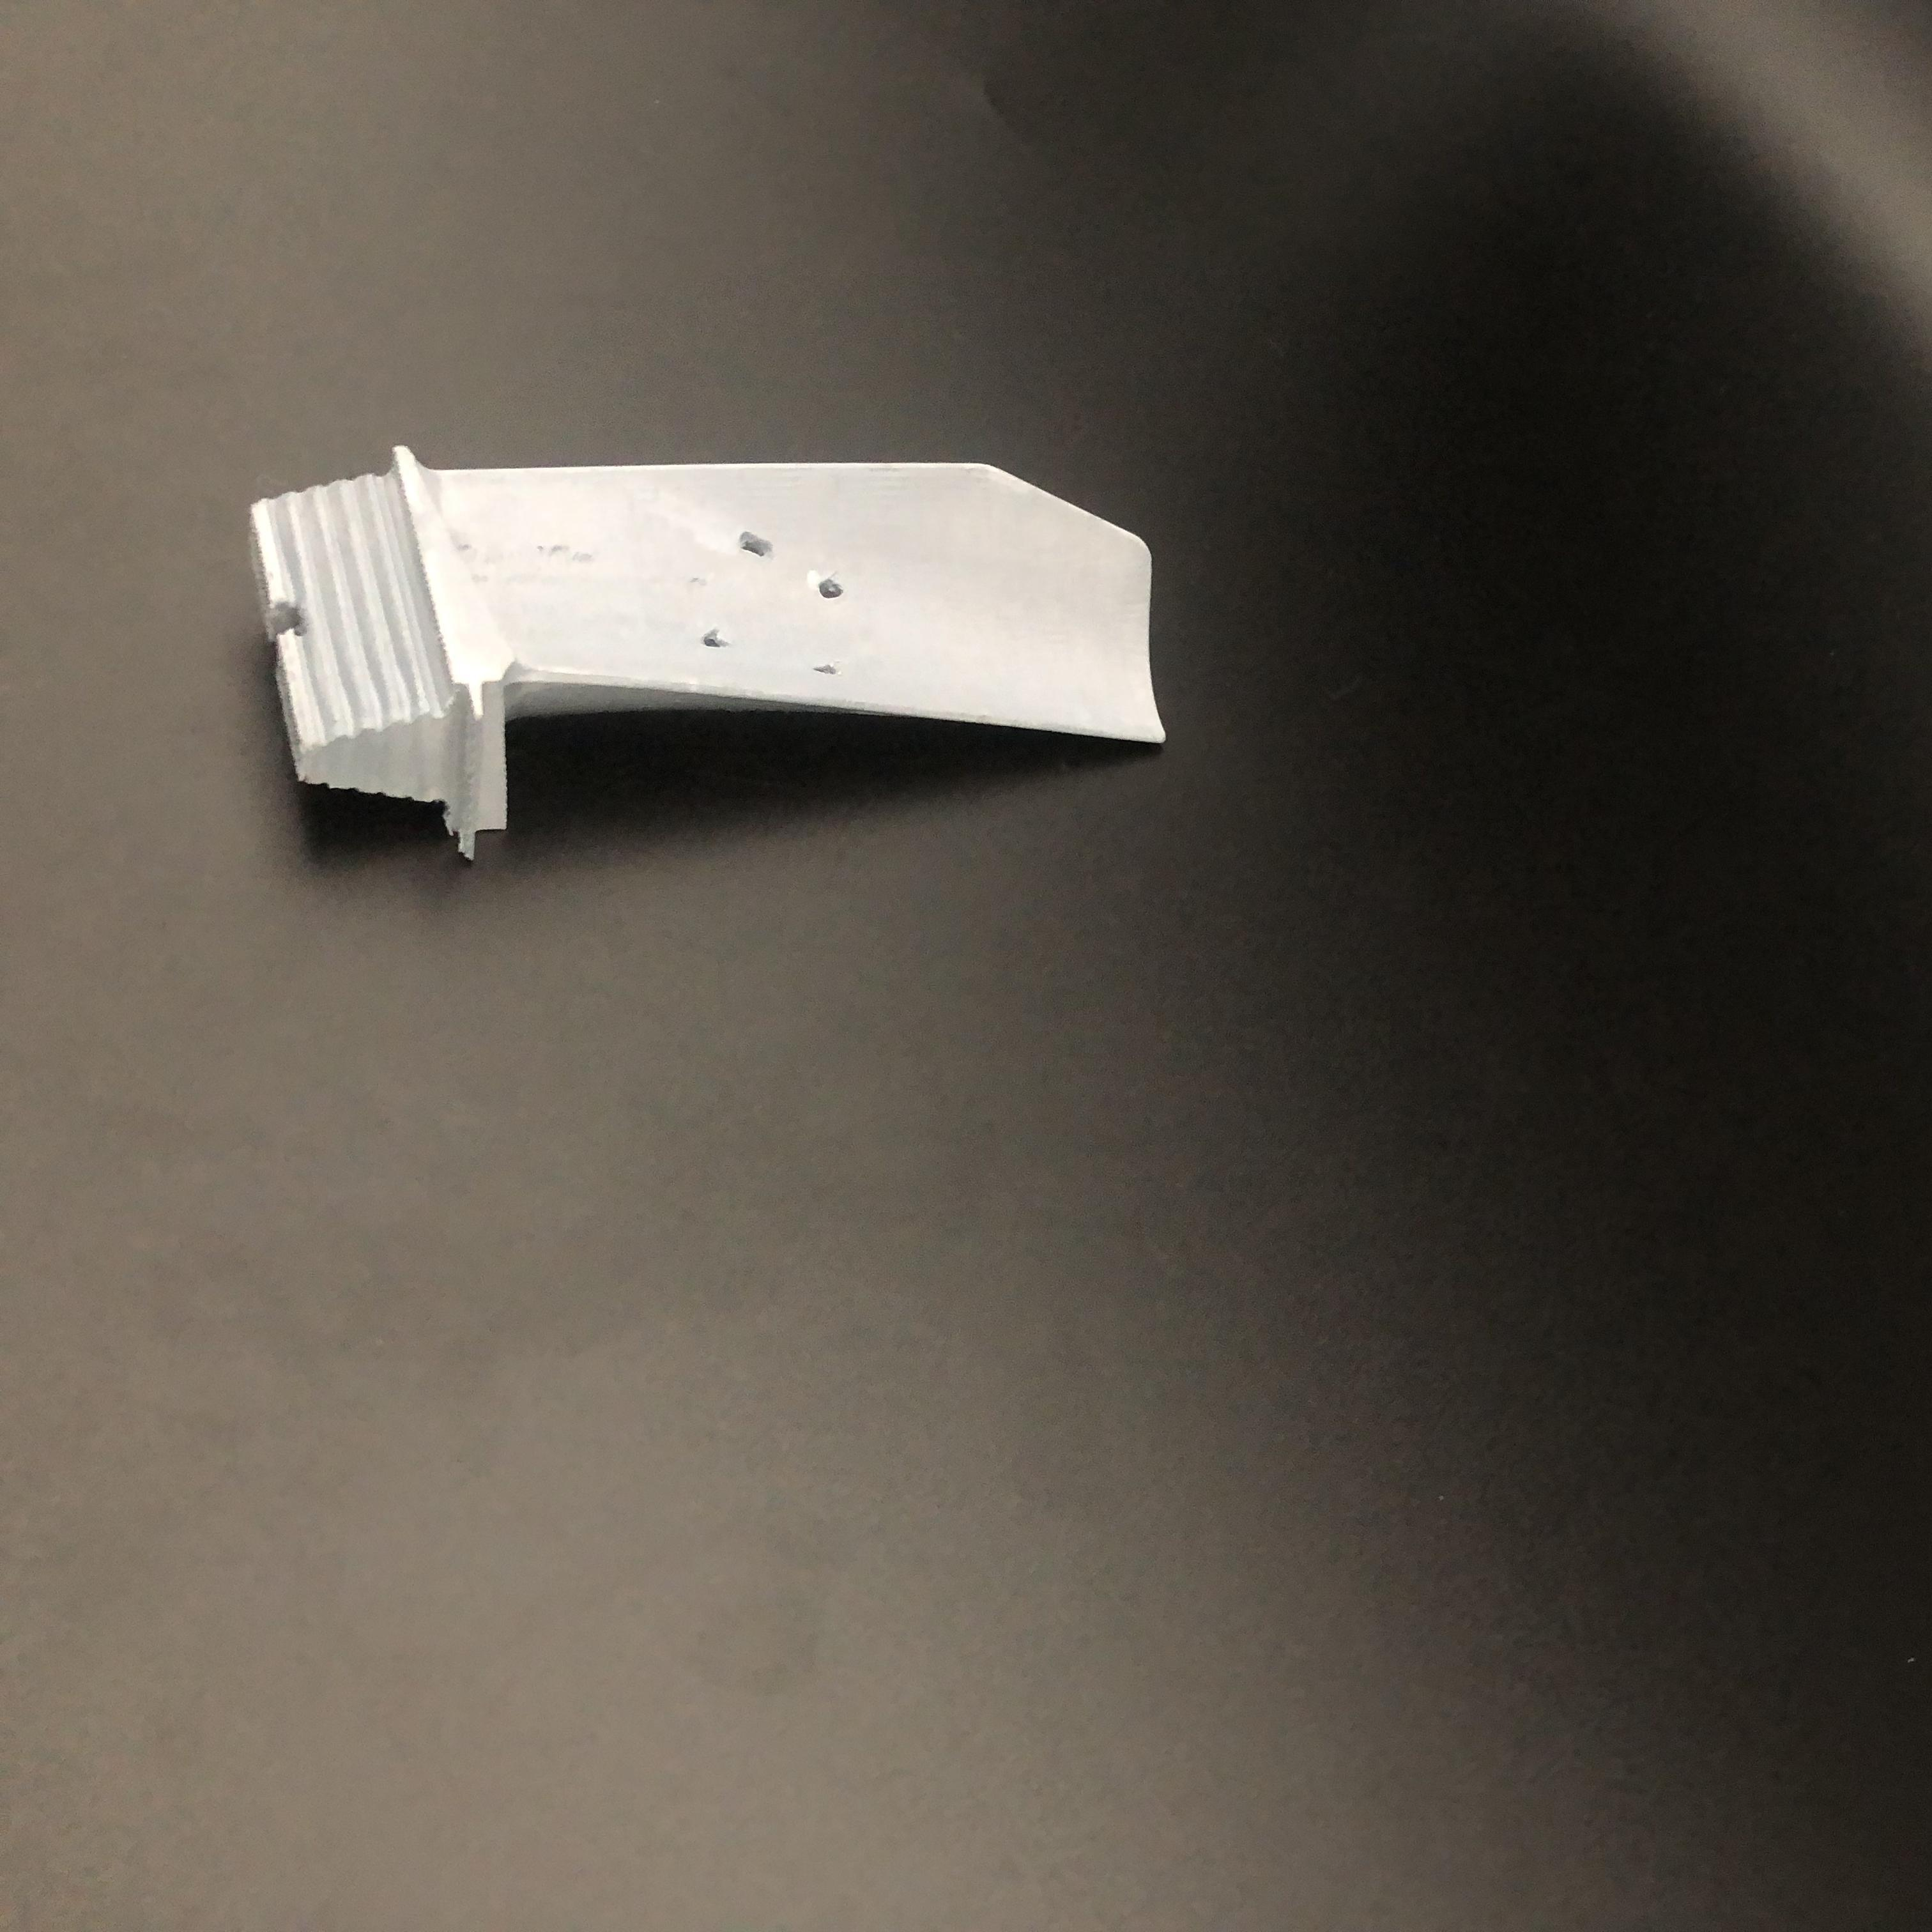breakdown: (699, 534, 867, 681)
